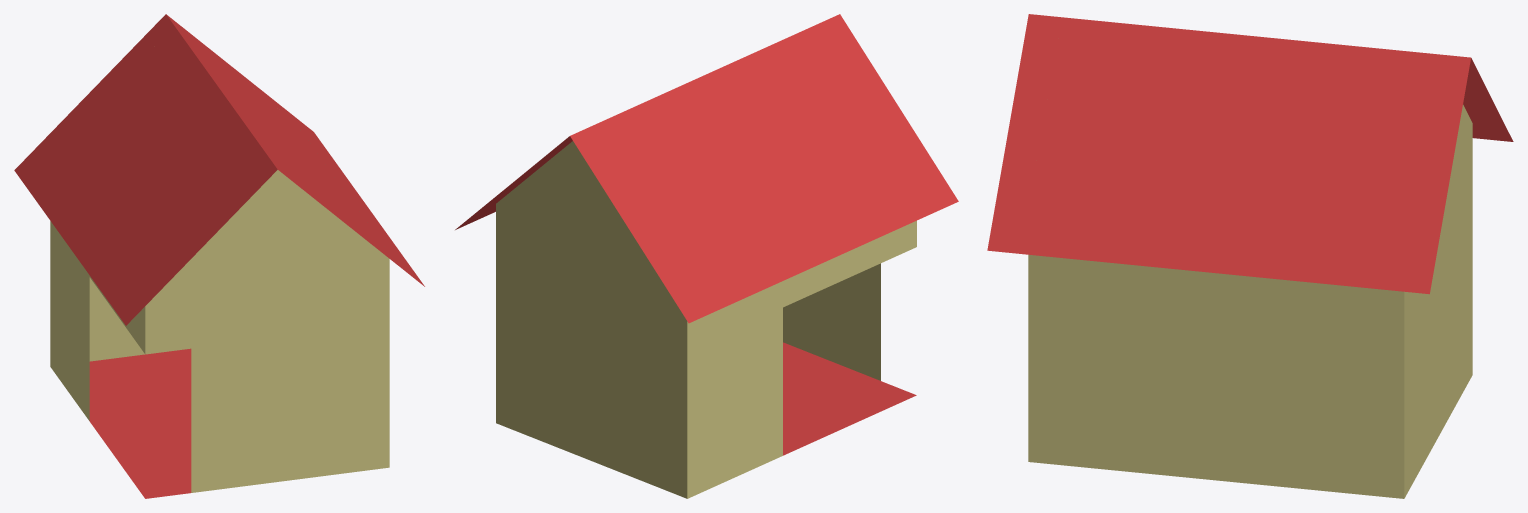
3 views of the same model, side by side, from view 1: azimuth 30°, elevation 25°; view 2: azimuth 150°, elevation 25°; view 3: azimuth 270°, elevation 25° (orthographic). The views are drawn at different scales.
Parts seen in each view (by area): view 1: group_5, group_3, group_6, group_4; view 2: group_5, group_3, group_6, group_4; view 3: group_5, group_3, group_4.
Part boxes in pixels (x1,y1,x2,y2): group_5: (50,170,389,492); group_3: (14,14,388,325); group_6: (89,348,191,498); group_4: (115,14,424,286); group_5: (496,141,916,498); group_3: (455,14,958,323); group_6: (783,342,916,455); group_4: (553,127,873,322); group_5: (1028,104,1472,498); group_3: (1028,17,1510,287); group_4: (987,14,1513,293).
Bounding box in the file's own units: 13.59 × 15.45 × 12.42.
